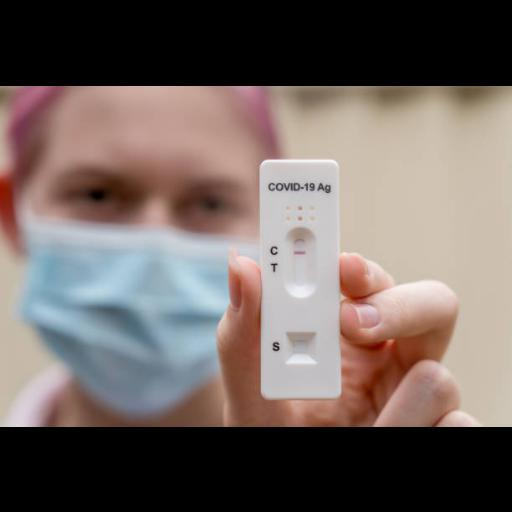Neg: (260, 160, 338, 396)
